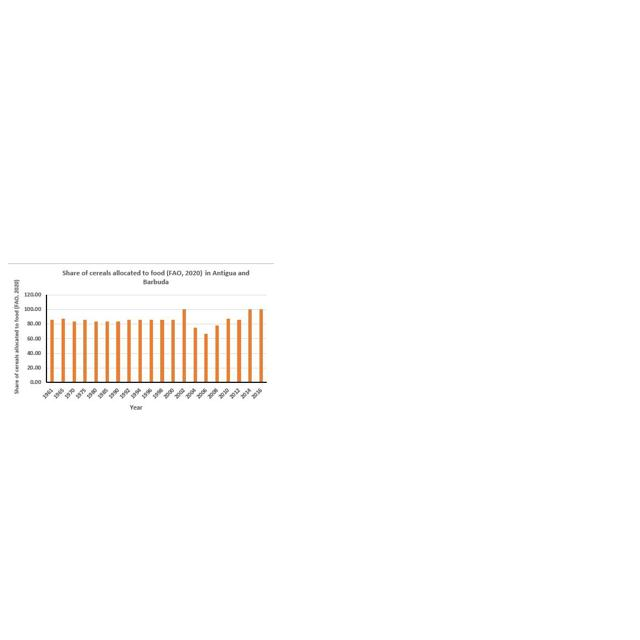Graph: (8, 263, 274, 413)
